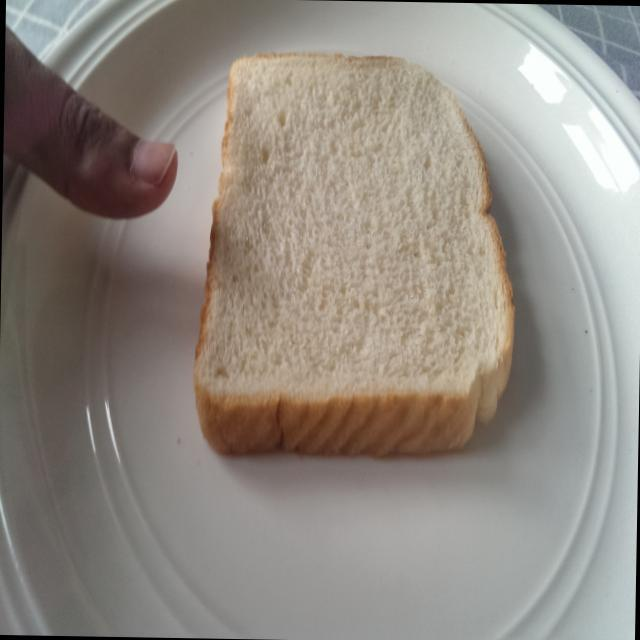Bread: (190, 32, 531, 476)
Finger: (62, 74, 186, 230)
